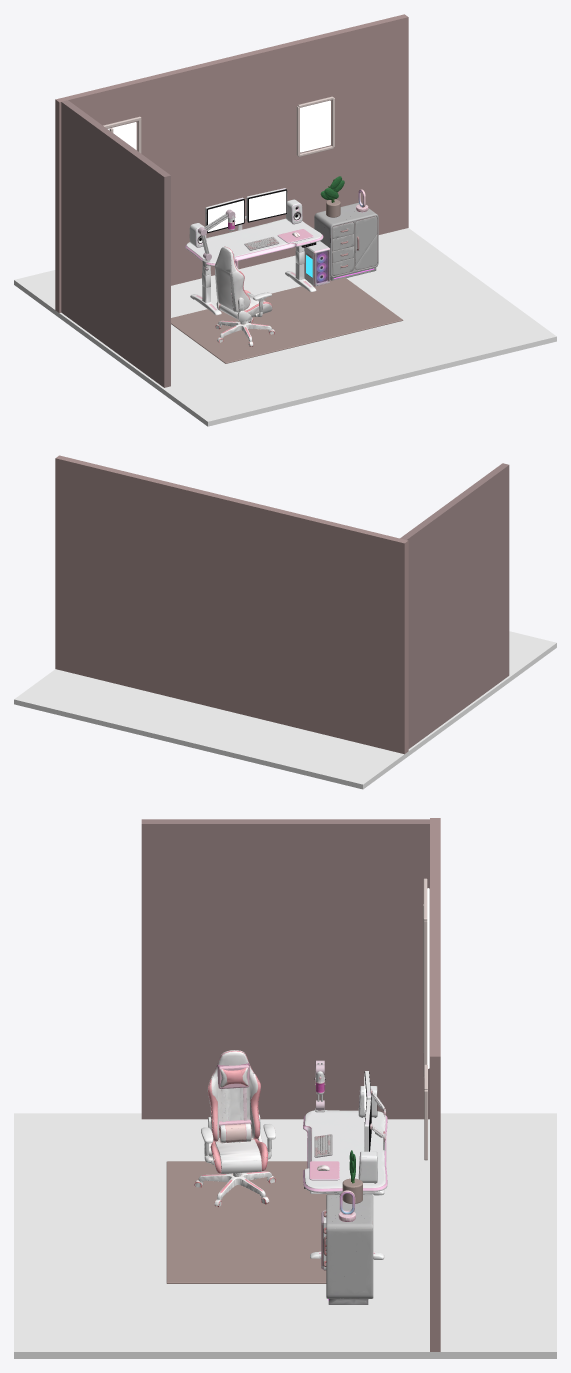
3 renders of one model, top to bottom at view 1: azimuth 30°, elevation 25°; view 2: azimuth 150°, elevation 25°; view 3: azimuth 270°, elevation 25°, orthographic. The views are drawn at different scales.
Visible parts, largest first — view 1: Architecture_Back_Wall, Architecture_Floor, Architecture_Left_Wall, Decor_Rug, GEO_Desk_Moving_Top, GEO_Chair_Swivel_Upper, GEO_Cabinet_Body, Wall_Art_Art, GEO_Door_Right_Front, 04-pc-tower_mesh_01, Screen_Right, GEO_Desk_Fixed_Base (+2 smaller); view 2: Architecture_Back_Wall, Architecture_Left_Wall, Architecture_Floor; view 3: Architecture_Floor, Architecture_Left_Wall, Decor_Rug, Architecture_Back_Wall, GEO_Chair_Swivel_Upper, GEO_Cabinet_Body, GEO_Desk_Moving_Top, GEO_Chair_Static_Base, Window_Frame_V.001.
Boxes of the visible parts, x1=… form: Architecture_Back_Wall: x1=55, y1=14, x2=408, y2=312; Architecture_Floor: x1=14, y1=228, x2=556, y2=426; Architecture_Left_Wall: x1=61, y1=100, x2=170, y2=387; Decor_Rug: x1=171, y1=277, x2=403, y2=363; GEO_Desk_Moving_Top: x1=185, y1=218, x2=323, y2=274; GEO_Chair_Swivel_Upper: x1=215, y1=246, x2=272, y2=321; GEO_Cabinet_Body: x1=314, y1=202, x2=378, y2=280; Wall_Art_Art: x1=300, y1=100, x2=330, y2=152; GEO_Door_Right_Front: x1=355, y1=216, x2=377, y2=270; 04-pc-tower_mesh_01: x1=304, y1=241, x2=330, y2=286; Screen_Right: x1=249, y1=191, x2=286, y2=221; GEO_Desk_Fixed_Base: x1=190, y1=263, x2=316, y2=315; Architecture_Back_Wall: x1=55, y1=455, x2=408, y2=754; Architecture_Left_Wall: x1=400, y1=463, x2=509, y2=748; Architecture_Floor: x1=14, y1=631, x2=556, y2=789; Architecture_Floor: x1=14, y1=1113, x2=556, y2=1358; Architecture_Left_Wall: x1=141, y1=819, x2=429, y2=1119; Decor_Rug: x1=166, y1=1161, x2=334, y2=1283; Architecture_Back_Wall: x1=430, y1=818, x2=440, y2=1351; GEO_Chair_Swivel_Upper: x1=201, y1=1050, x2=275, y2=1173; GEO_Cabinet_Body: x1=326, y1=1194, x2=373, y2=1304; GEO_Desk_Moving_Top: x1=303, y1=1110, x2=387, y2=1194; GEO_Chair_Static_Base: x1=194, y1=1171, x2=275, y2=1206; Window_Frame_V.001: x1=423, y1=921, x2=427, y2=1075.
Size of the model in its own units: 5.2 by 3.07 by 5.
32 materials, 13 textured.
